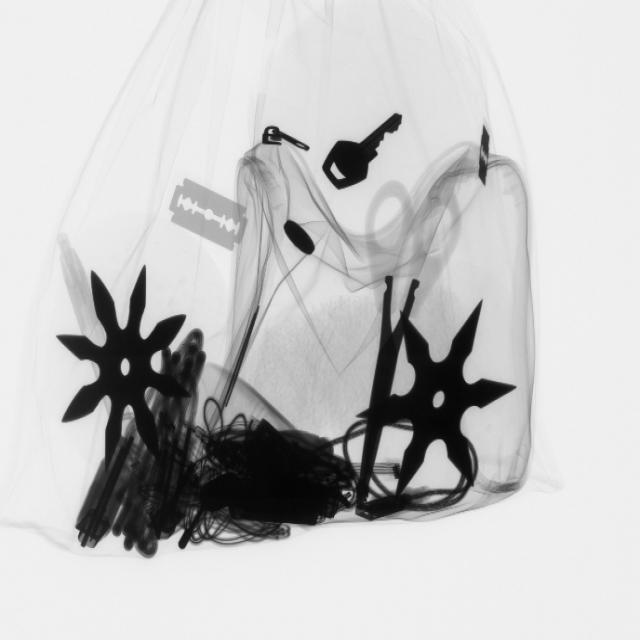BLADE: (165, 174, 256, 259), (474, 118, 501, 192)
SHURIKEN: (368, 289, 515, 503), (59, 262, 192, 469)
